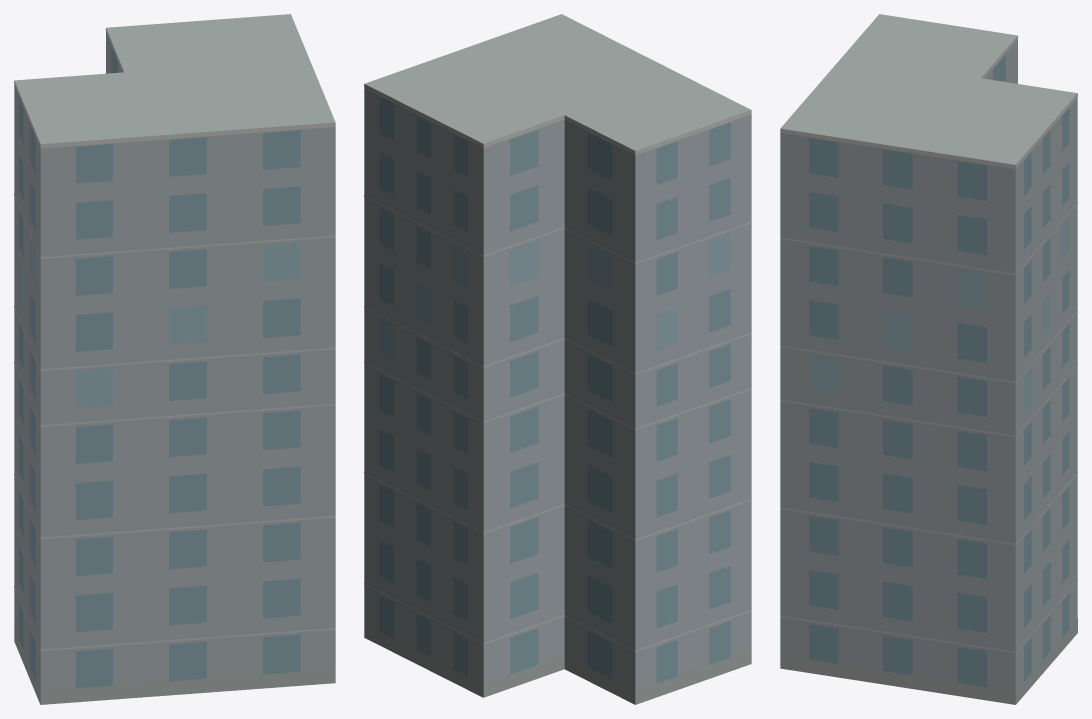
The model's file is residential-d81008a6-368a-497e-abb3-5346bc30d4e8.glb.
3 renders of one model, left to right at view 1: azimuth 30°, elevation 25°; view 2: azimuth 150°, elevation 25°; view 3: azimuth 270°, elevation 25°, orthographic. The views are drawn at different scales.
Parts seen in each view (by area): view 1: residential-d81008a6-368a-497e-abb3-5346bc30d4e8.tmp; view 2: residential-d81008a6-368a-497e-abb3-5346bc30d4e8.tmp; view 3: residential-d81008a6-368a-497e-abb3-5346bc30d4e8.tmp.
Boxes of the visible parts, x1,y1,x2,y2 form: residential-d81008a6-368a-497e-abb3-5346bc30d4e8.tmp: [14, 14, 335, 704]; residential-d81008a6-368a-497e-abb3-5346bc30d4e8.tmp: [364, 14, 751, 704]; residential-d81008a6-368a-497e-abb3-5346bc30d4e8.tmp: [780, 14, 1077, 704].
Size of the model in its own units: 18.31 by 30.5 by 15.25.
